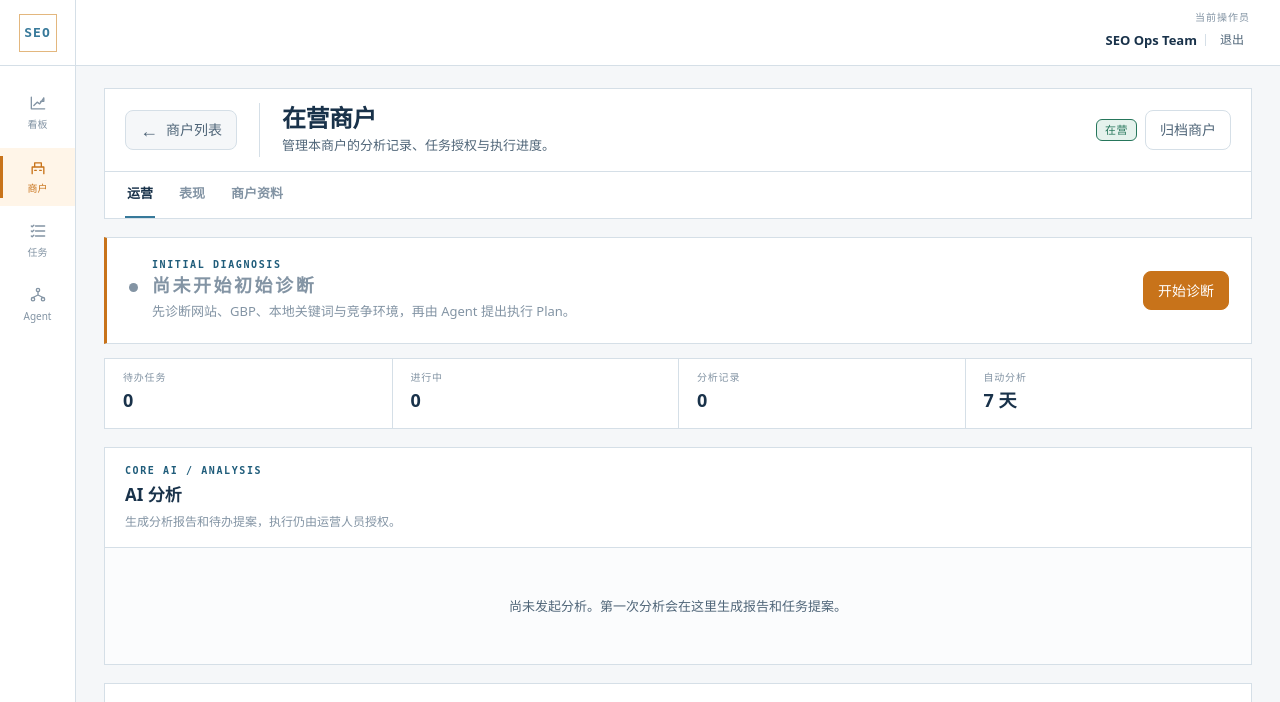
it: merchant lifecycle › surfaces the server conflict when a hidden sync blocks archiving
What coordinates should you click on to do the following:
click the button "归档商户"
I would click on:
 (1188, 130)
Its box is [1145,110,1231,150].
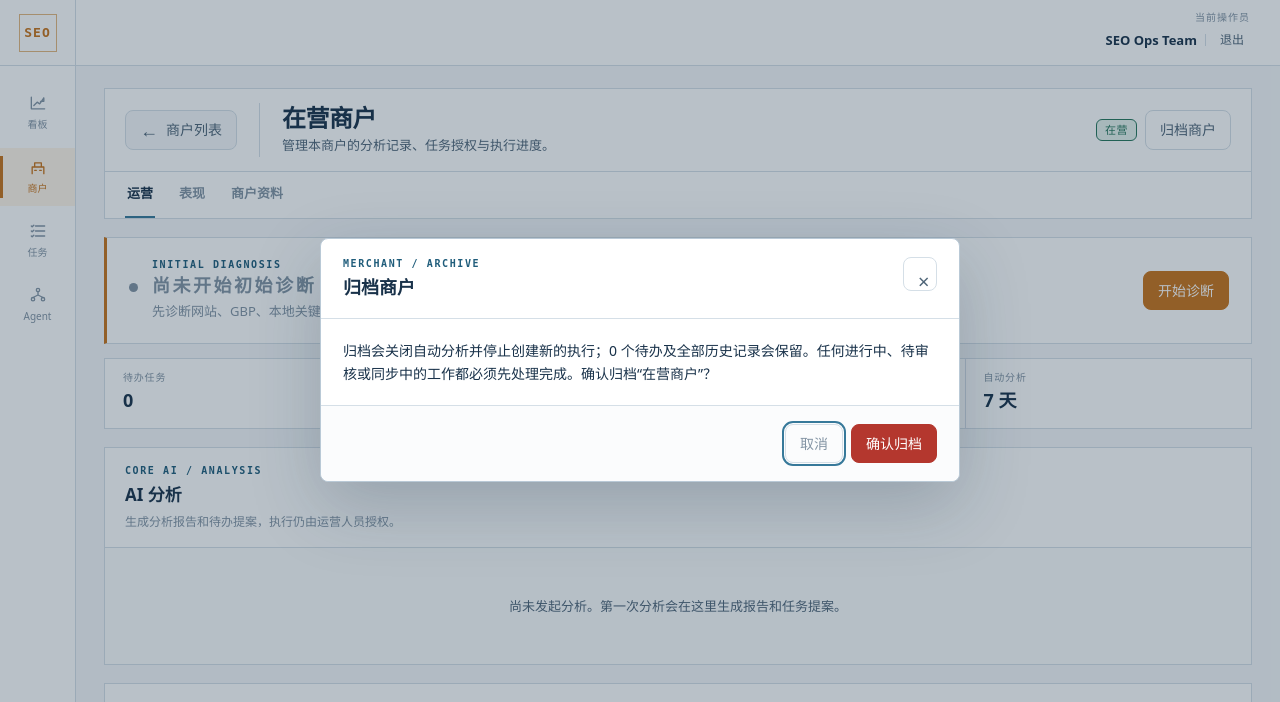
What coordinates should you click on to do the following:
click the button "确认归档"
I would click on:
 (894, 443)
Its box is [851,424,937,463].
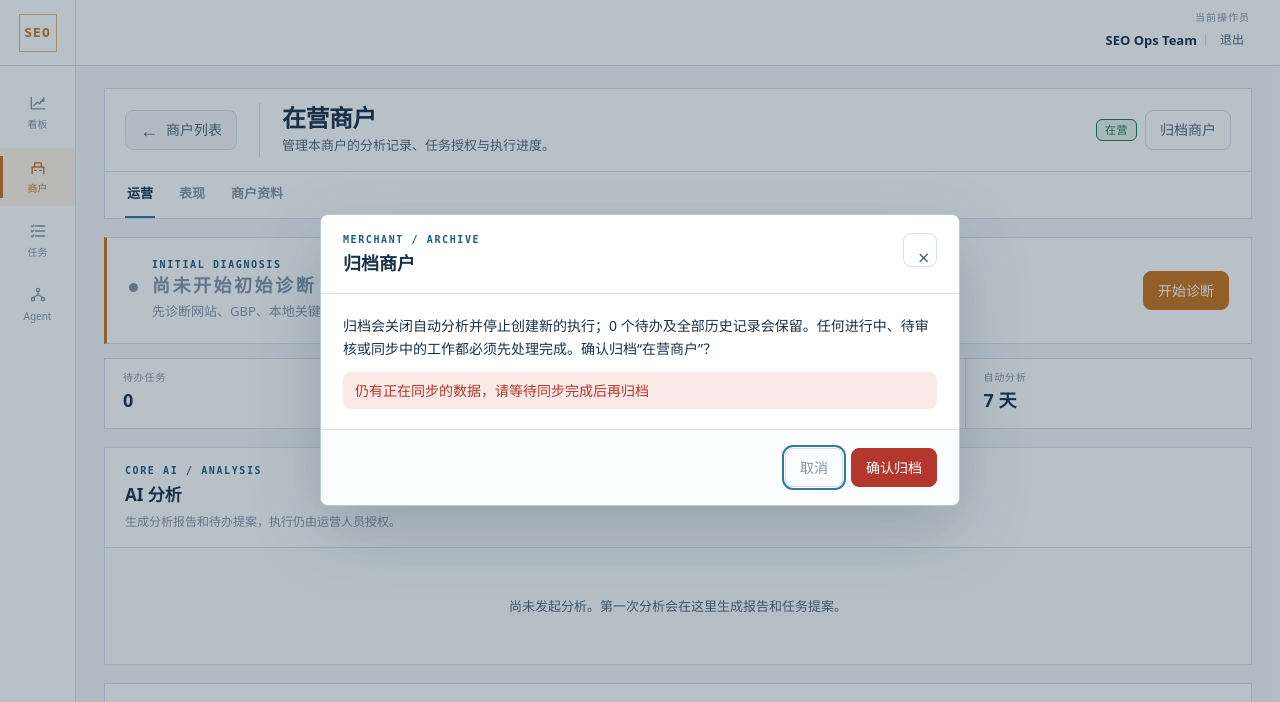
Check: the button "归档商户" is shown, box [1145,110,1231,150]
Check: the text "仍有正在同步的数据，请等待同步完成后再归档" is shown, box [355,381,649,400]
